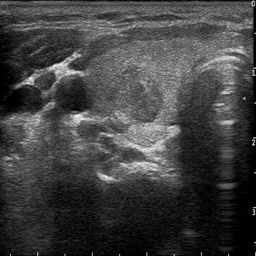mass: (114, 67, 164, 126)
